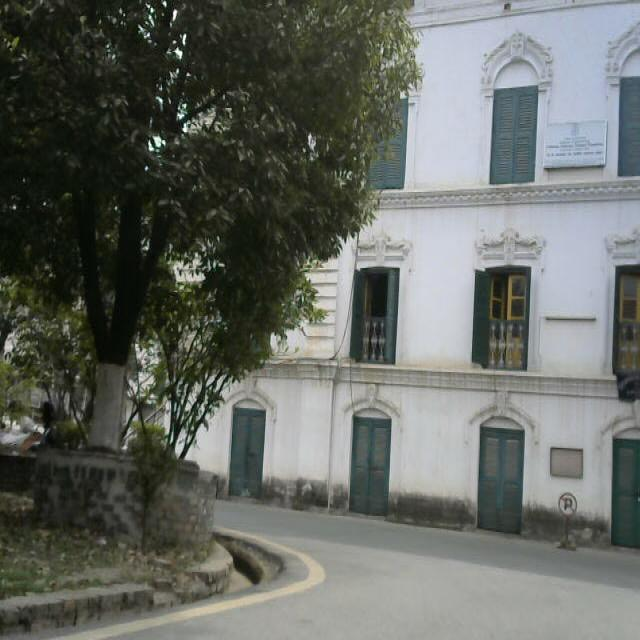Buildings: (414, 9, 640, 492)
NoParking: (558, 488, 578, 548)
Road: (42, 500, 635, 640)
trees: (3, 0, 391, 468)
